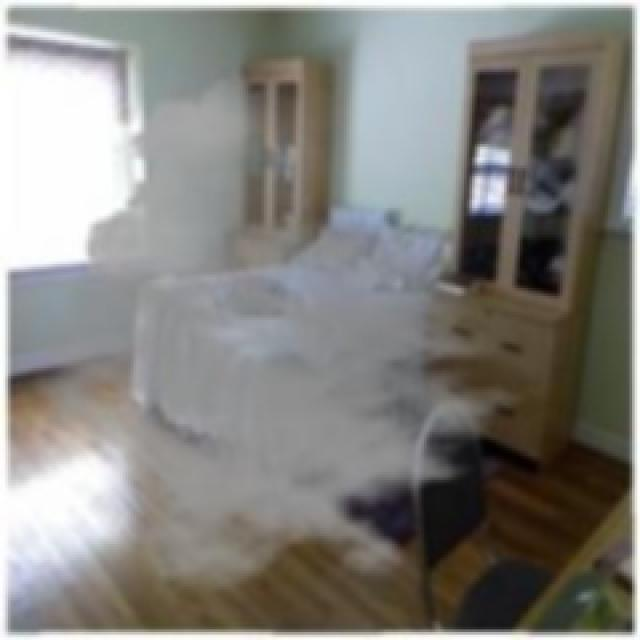smoke: (170, 243, 450, 552)
